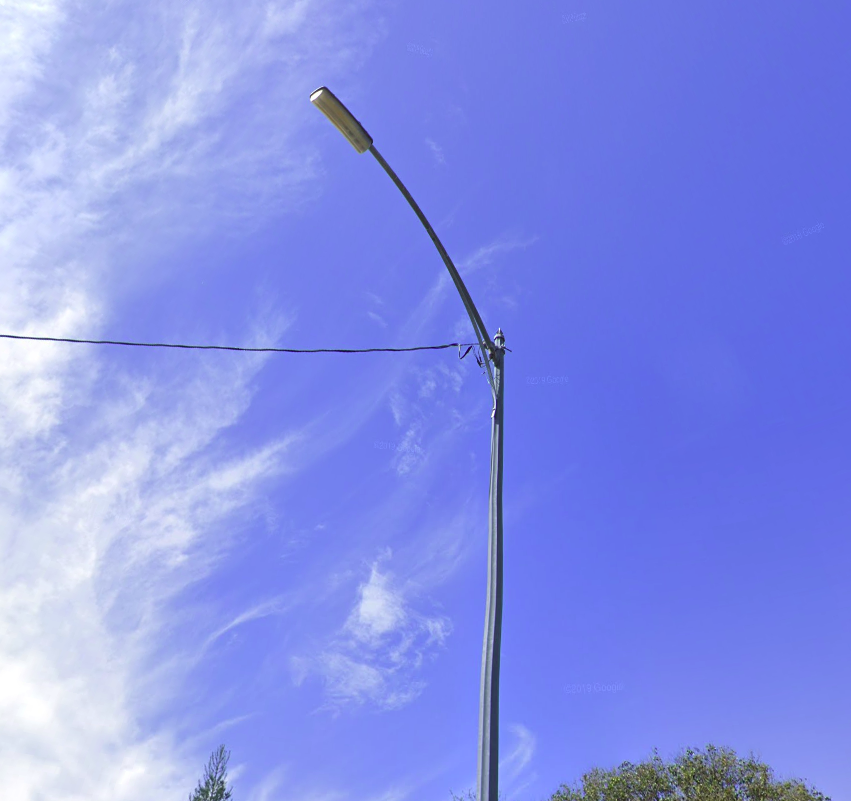pole: (305, 82, 522, 751)
